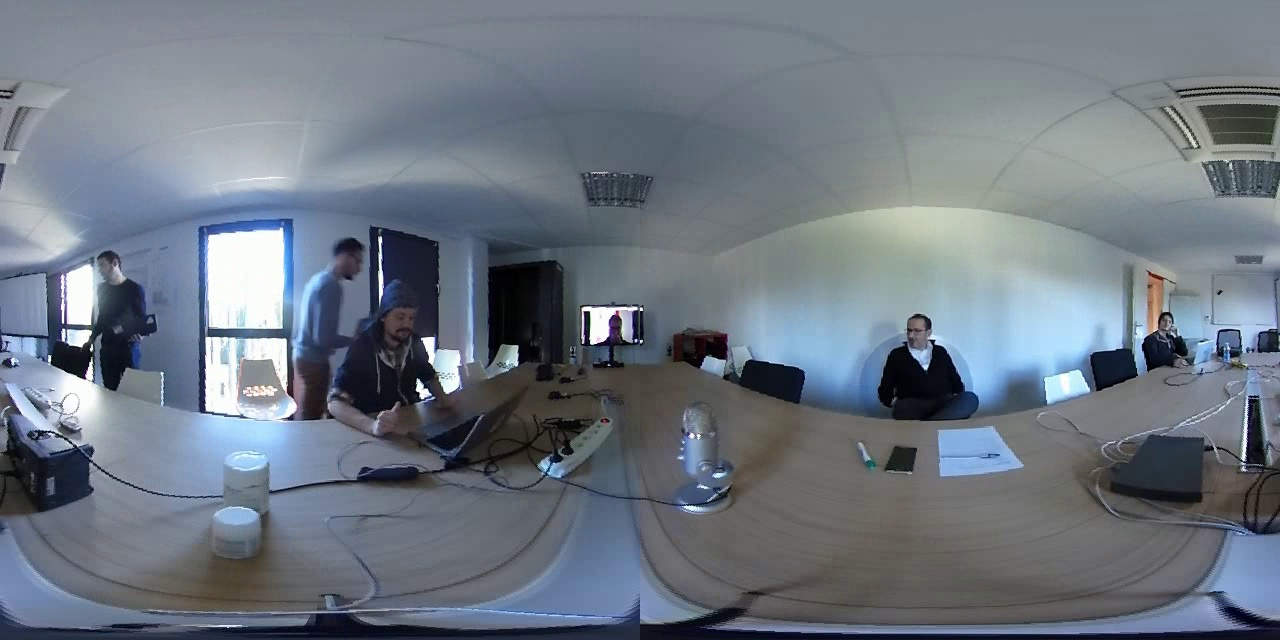person: (879, 295, 974, 434), (358, 274, 437, 424), (67, 240, 158, 365), (294, 227, 362, 392), (1147, 310, 1189, 368), (586, 304, 641, 344)
